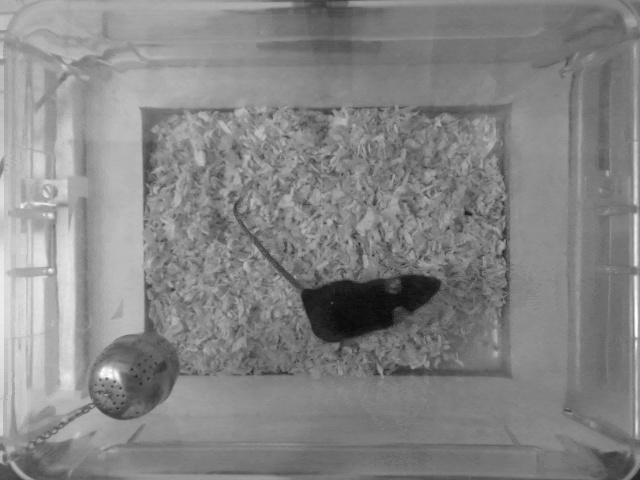mice: (232, 196, 444, 345)
